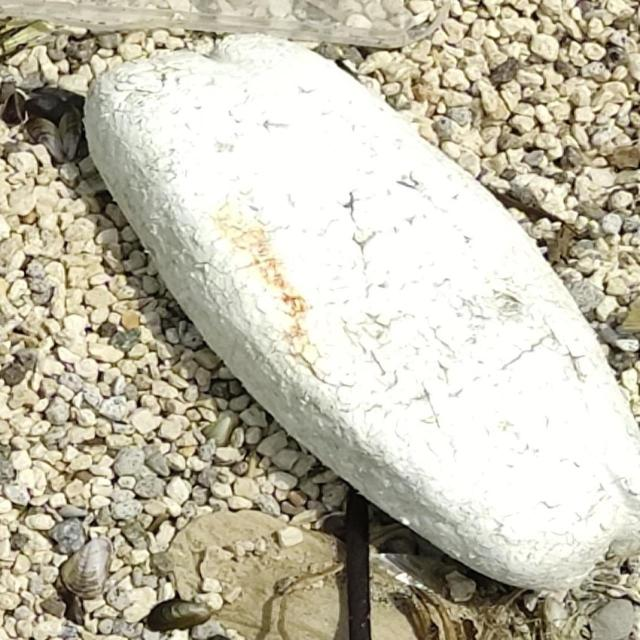styrofoam_waste: (83, 32, 640, 598)
